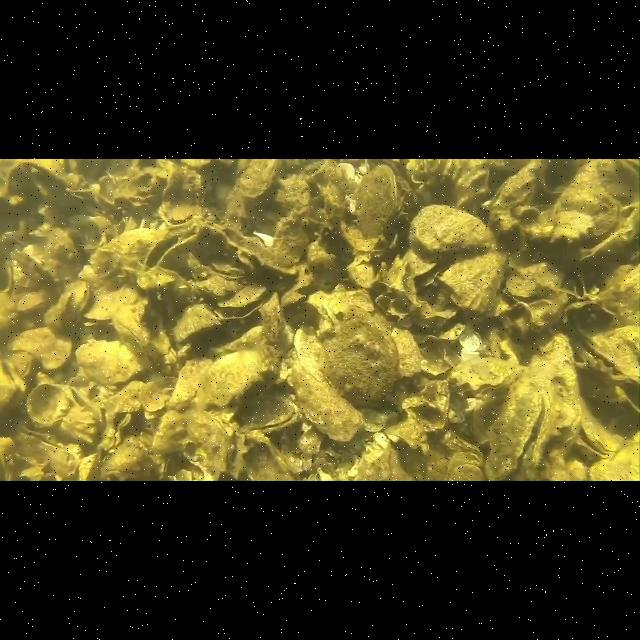Oyster-Closed: (309, 290, 399, 404), (556, 159, 640, 225), (355, 164, 411, 238), (196, 350, 266, 408), (409, 205, 494, 252), (440, 252, 505, 312), (100, 414, 158, 481), (75, 340, 141, 385), (10, 328, 72, 370), (599, 265, 640, 328), (590, 431, 640, 481), (115, 166, 169, 210), (172, 304, 221, 342), (111, 301, 150, 348), (55, 291, 72, 314)
Oyster-Open: (485, 368, 555, 480), (446, 356, 523, 397), (145, 216, 206, 267), (236, 392, 300, 432), (26, 384, 70, 428), (215, 284, 266, 320), (65, 279, 90, 311), (211, 262, 244, 276)
